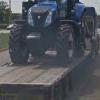Tractor: (6, 0, 100, 77)
